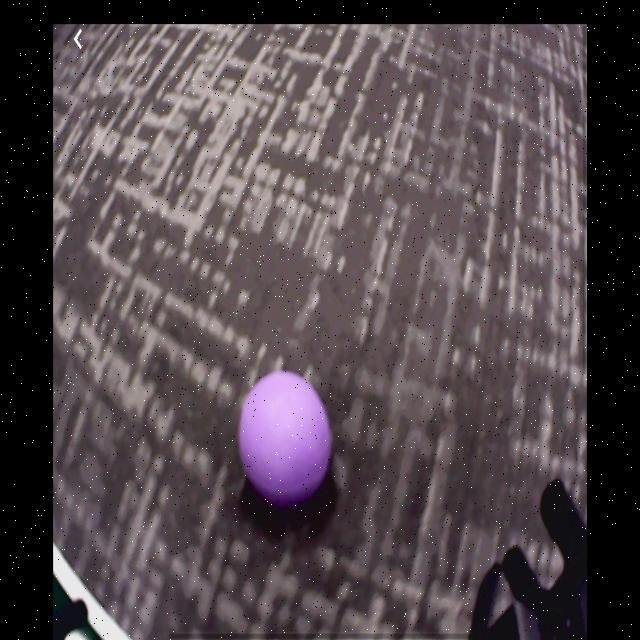ball: (238, 376, 335, 504)
